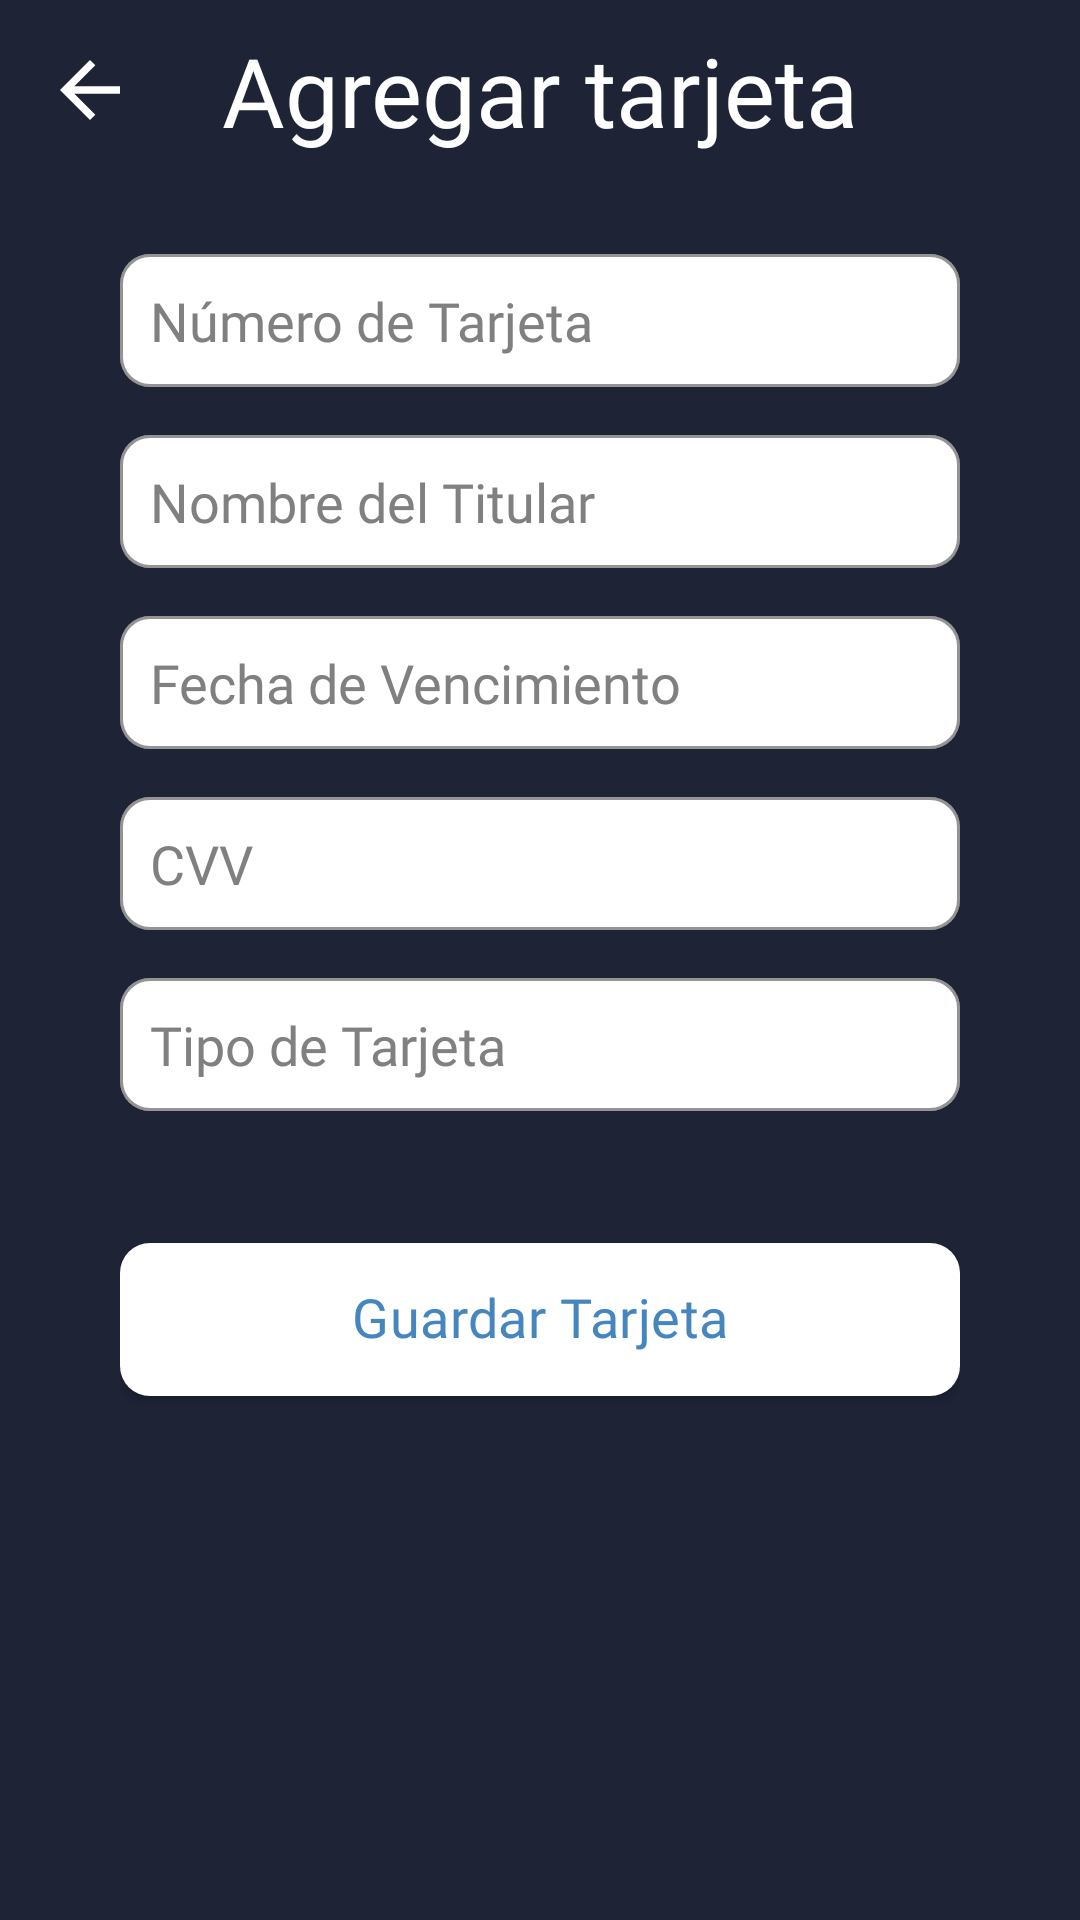

Locate icon controls on the screen. Image size 1080x1920, boxes as (x1,y1,x2,y2).
arrow back: (60,60,120,120)
